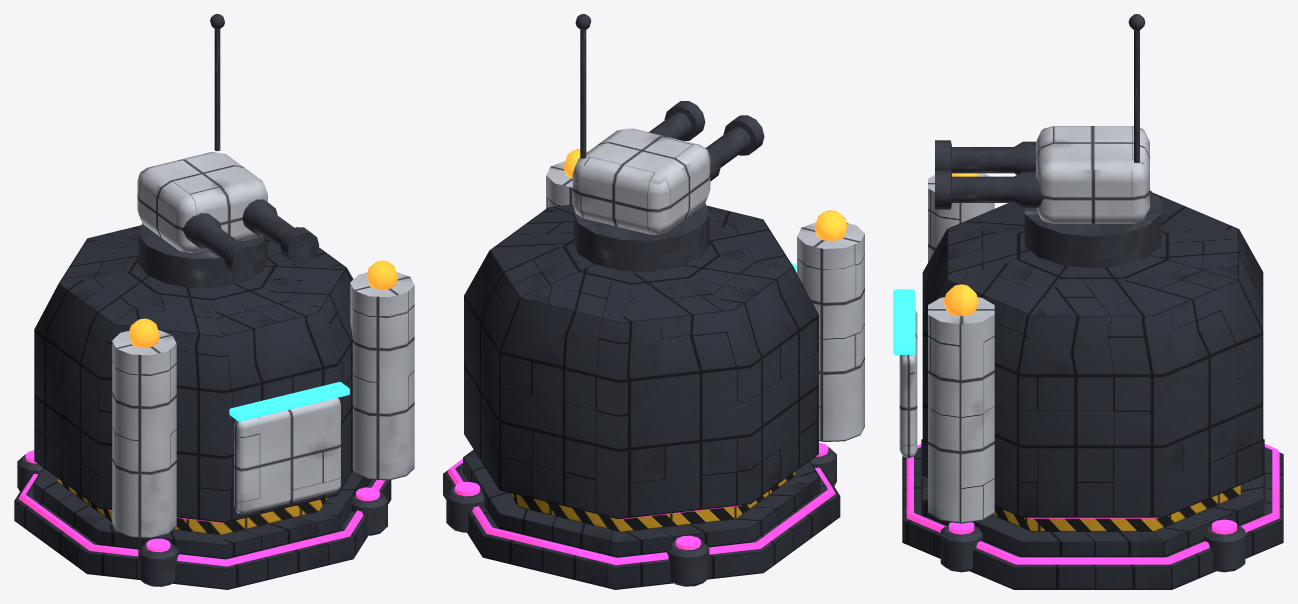
File: sf_order.glb
3 views of the same model, side by side, from view 1: azimuth 30°, elevation 25°; view 2: azimuth 150°, elevation 25°; view 3: azimuth 270°, elevation 25° (orthographic). The views are drawn at different scales.
Parts seen in each view (by area): view 1: Base, Turret; view 2: Base, Turret; view 3: Base, Turret.
Boxes of the visible parts, x1,y1,x2,y2 form: Base: (14,225,414,589); Turret: (137,14,319,288); Base: (443,149,864,589); Turret: (572,14,764,271); Base: (893,173,1283,589); Turret: (935,14,1161,268).
Size of the model in its own units: 0.8684 by 1.29 by 0.8892.
Materials: 7 (7 with a texture image).
